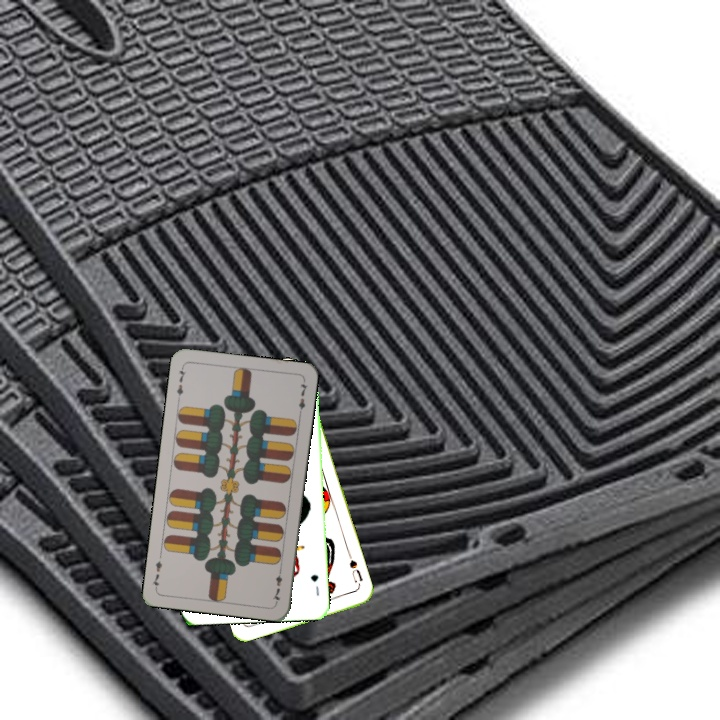E7: (269, 564, 285, 605), (172, 363, 188, 403)
GU: (306, 571, 322, 598)
SU: (345, 556, 365, 590)
